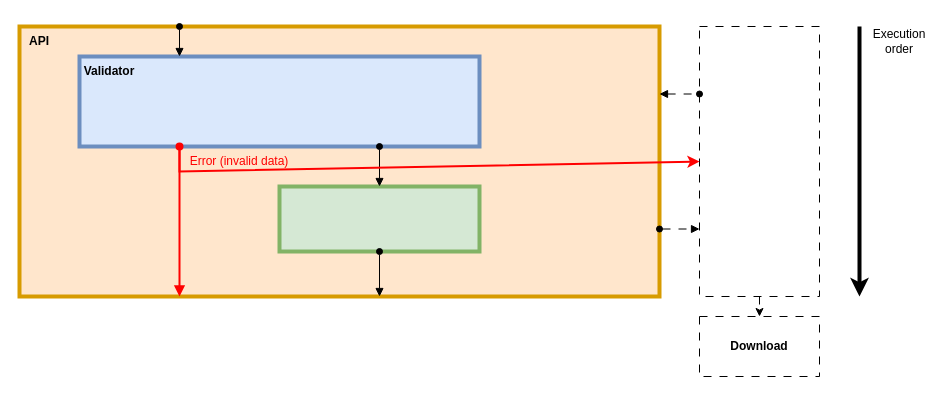
Image size: 946x394. Some labels were removed from this diagram. Here are the shapes that lost their labels. From the top down, the centre of each, then its label:
At (759,161): "GUI".
At (379,218): "Model Creator".
